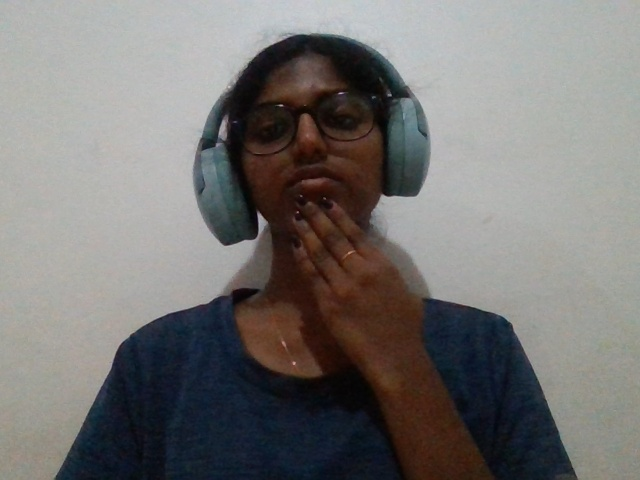Thanks: (249, 163, 466, 428)
